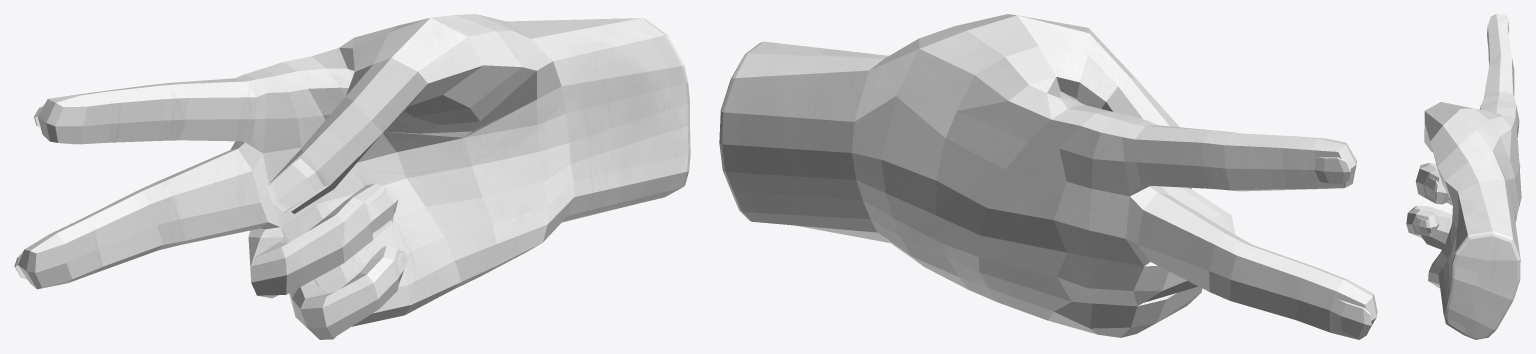
Rendered from r_hard_scissors.glb.
3 renders of one model, left to right at view 1: azimuth 30°, elevation 25°; view 2: azimuth 150°, elevation 25°; view 3: azimuth 270°, elevation 25°, orthographic. The views are drawn at different scales.
Parts seen in each view (by area): view 1: R_Hard_Scissors; view 2: R_Hard_Scissors; view 3: R_Hard_Scissors.
Boxes of the visible parts, x1=… form: R_Hard_Scissors: x1=14, y1=14, x2=690, y2=339; R_Hard_Scissors: x1=719, y1=14, x2=1377, y2=339; R_Hard_Scissors: x1=1406, y1=14, x2=1521, y2=339.
Size of the model in its own units: 0.251 by 0.1082 by 0.062.
Materials: 1 (1 with a texture image).
